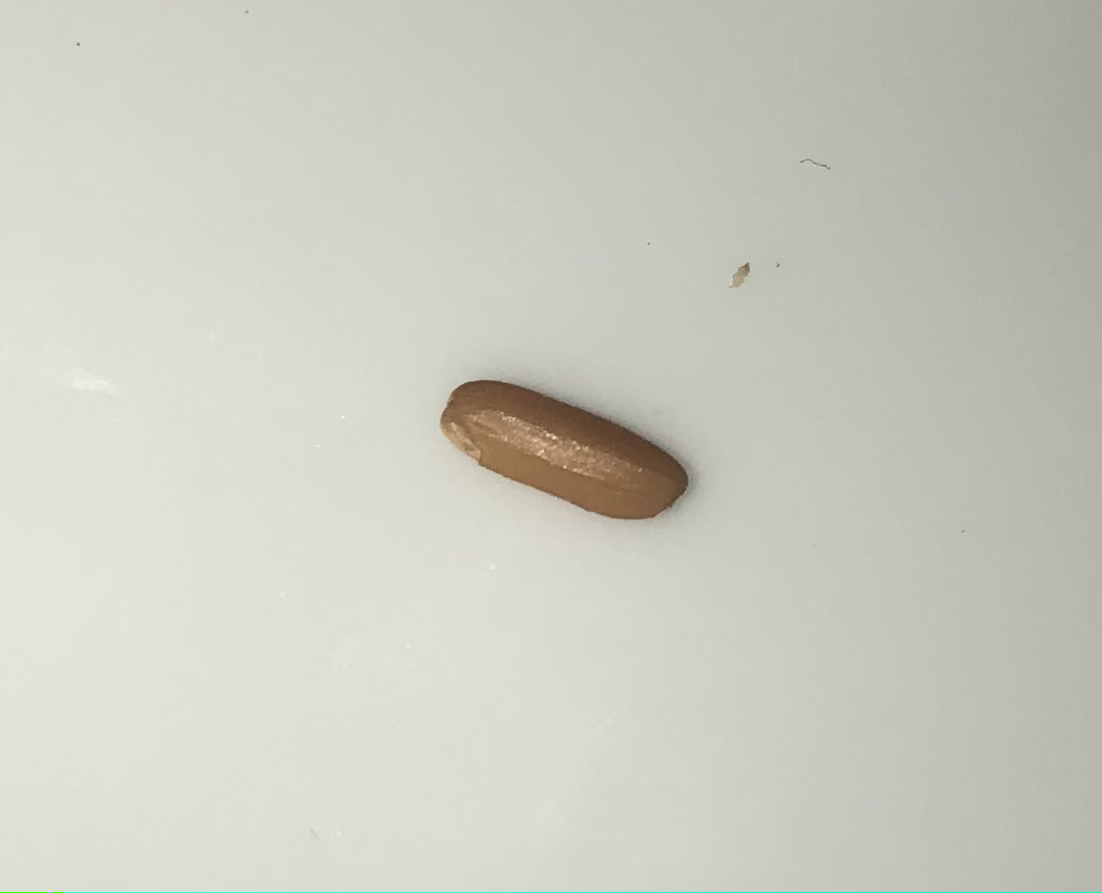Gao Lut Dien Bien: (442, 356, 701, 546)
